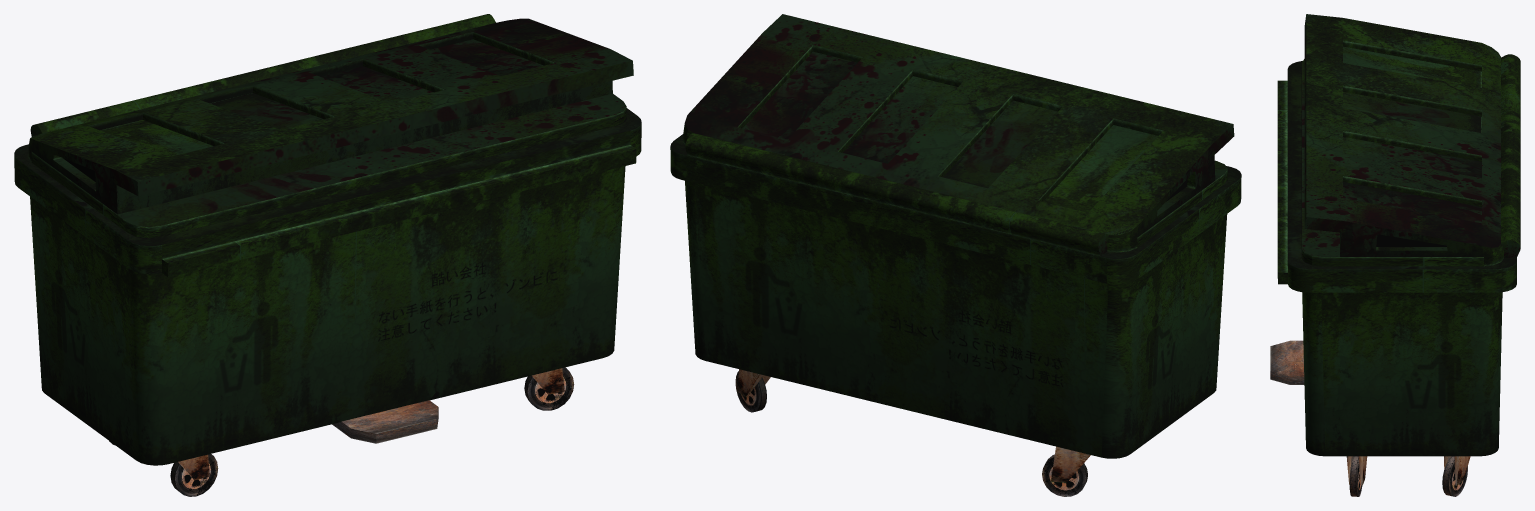
Rendered from Dustbin.fbx.
3 renders of one model, left to right at view 1: azimuth 30°, elevation 25°; view 2: azimuth 150°, elevation 25°; view 3: azimuth 270°, elevation 25°, orthographic. The views are drawn at different scales.
Visible parts, largest first — view 1: OuterBin; view 2: OuterBin; view 3: OuterBin.
Boxes of the visible parts, bbox=[...] form: OuterBin: bbox=[14, 14, 641, 496]; OuterBin: bbox=[670, 14, 1241, 496]; OuterBin: bbox=[1270, 14, 1520, 496].
Size of the model in its own units: 76.12 by 50.99 by 38.6.
